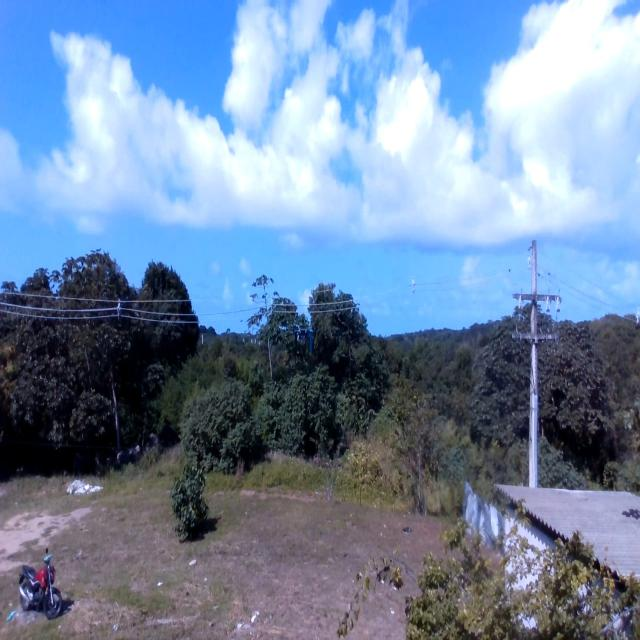-uav-: (284, 317, 318, 370)
